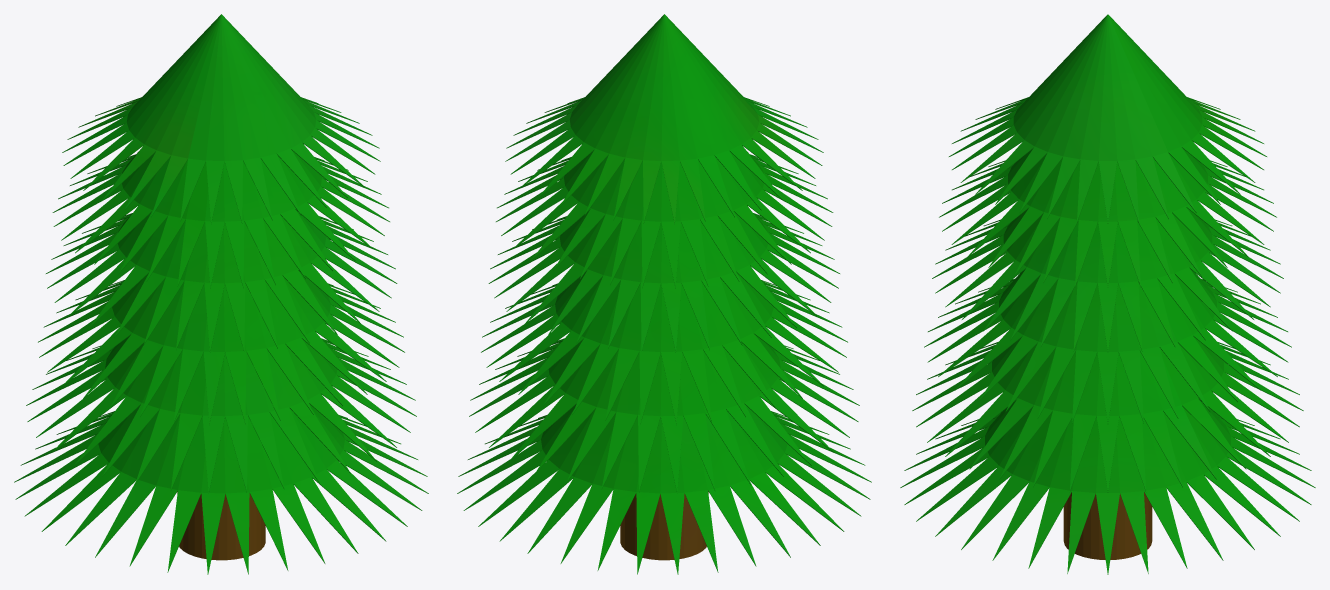
Rendered from Christmas-tree2.dae.
3 renders of one model, left to right at view 1: azimuth 30°, elevation 25°; view 2: azimuth 150°, elevation 25°; view 3: azimuth 270°, elevation 25°, orthographic.
Parts seen in each view (by area): view 1: Cylinder; view 2: Cylinder; view 3: Cylinder.
Part boxes in pixels (x1,y1,x2,y2): Cylinder: (14, 14, 428, 574); Cylinder: (457, 14, 871, 574); Cylinder: (900, 14, 1315, 574).
Size of the model in its own units: 2.46 by 2.46 by 3.44.
Materials: 2 (2 with a texture image).
